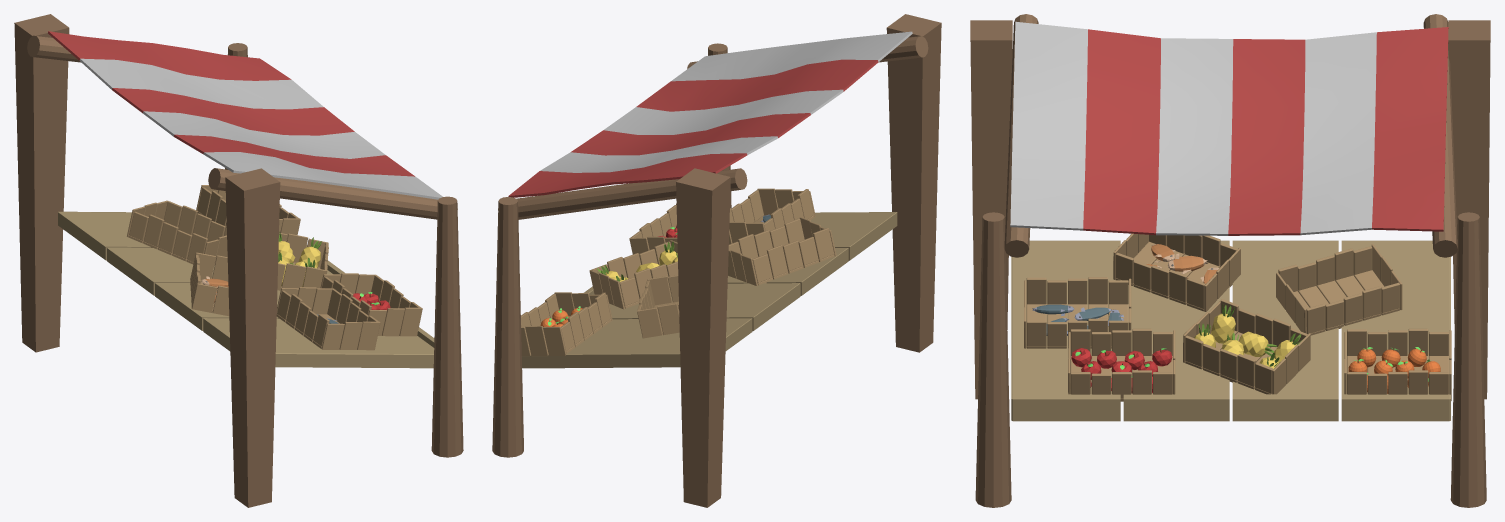
The model's file is Stand.fbx.
3 views of the same model, side by side, from view 1: azimuth 30°, elevation 25°; view 2: azimuth 150°, elevation 25°; view 3: azimuth 270°, elevation 25° (orthographic). The views are drawn at different scales.
Visible parts, largest first — view 1: Plane.019, üstörtü, Plane.003, Vert.002, Plane.033, Vert.003, Plane.040, Plane.034, Plane.038, Plane.039, Plane.042; view 2: Plane.019, üstörtü, Plane.003, Vert.002, Plane.038, Vert.003, Plane.042, Plane.033, Plane.039, Plane.040, Plane.034; view 3: üstörtü, Plane.003, Plane.019, Vert.002, Plane.040, Plane.038, Plane.039, Plane.033, Plane.042, Plane.034, Vert.003, Cylinder.008 (+1 smaller).
Part boxes in pixels (x1,y1,x2,y2): Plane.019: (14,14,280,507); üstörtü: (48,31,442,199); Plane.003: (58,211,434,368); Vert.002: (225,43,463,457); Plane.033: (276,287,380,350); Vert.003: (27,35,457,219); Plane.040: (127,200,227,265); Plane.034: (320,273,422,336); Plane.038: (190,252,229,316); Plane.039: (277,232,328,290); Plane.042: (196,185,300,241); Plane.019: (676,14,941,507); üstörtü: (508,31,912,197); Plane.003: (522,212,897,368); Vert.002: (492,43,731,457); Plane.038: (728,217,836,285); Vert.003: (498,36,928,219); Plane.042: (521,292,612,356); Plane.033: (729,188,815,244); Plane.039: (589,240,678,309); Plane.040: (637,275,679,338); Plane.034: (629,203,677,254); üstörtü: (1010,21,1448,235); Plane.003: (1011,240,1450,421); Plane.019: (970,20,1490,399); Vert.002: (975,212,1486,507); Plane.040: (1276,244,1402,335); Plane.038: (1113,233,1240,311); Plane.039: (1183,299,1310,394); Plane.033: (1024,277,1131,348); Plane.042: (1344,328,1451,400); Plane.034: (1068,328,1175,401); Vert.003: (1004,14,1457,257); Cylinder.008: (1211,304,1235,343).
Bounding box in the file's own units: 702 × 910 × 1166.
